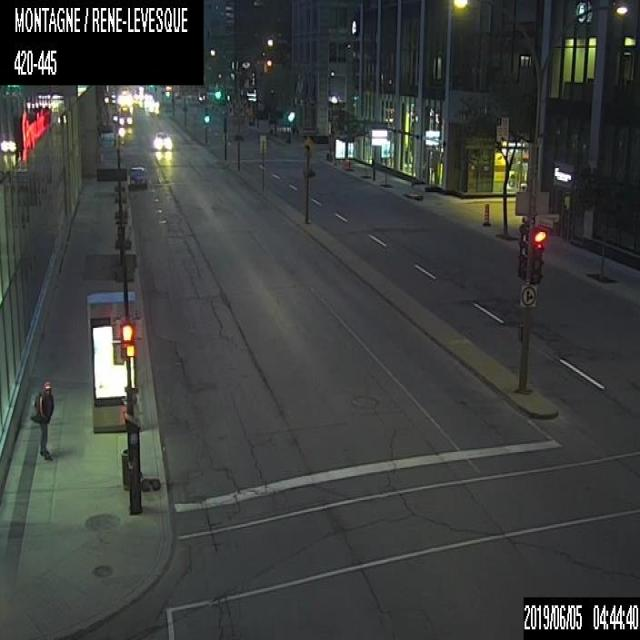construction: (482, 202, 489, 224)
pedestrian: (27, 380, 55, 460)
vehicle: (128, 160, 147, 188), (151, 128, 174, 151), (119, 106, 131, 125)
